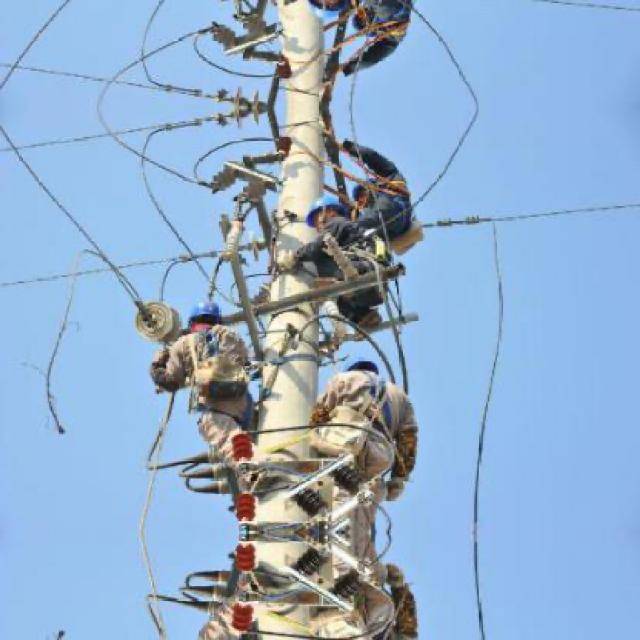helmet: (182, 300, 228, 334), (340, 349, 382, 382), (311, 191, 346, 229), (310, 0, 348, 23)
